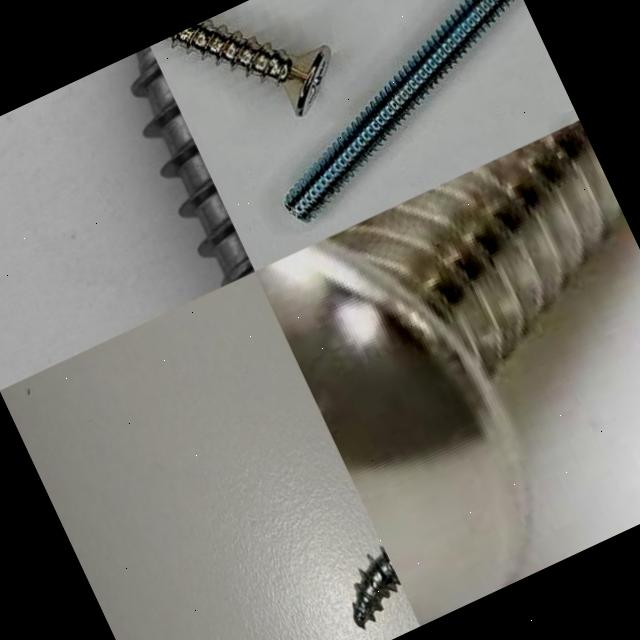Screw: (255, 120, 628, 626), (22, 46, 255, 332), (285, 0, 513, 220), (168, 20, 330, 115), (353, 546, 401, 628)
